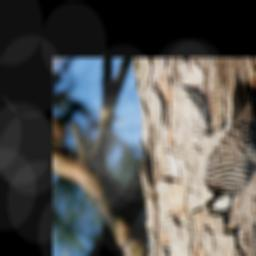Woodpecker: (190, 70, 256, 216)
